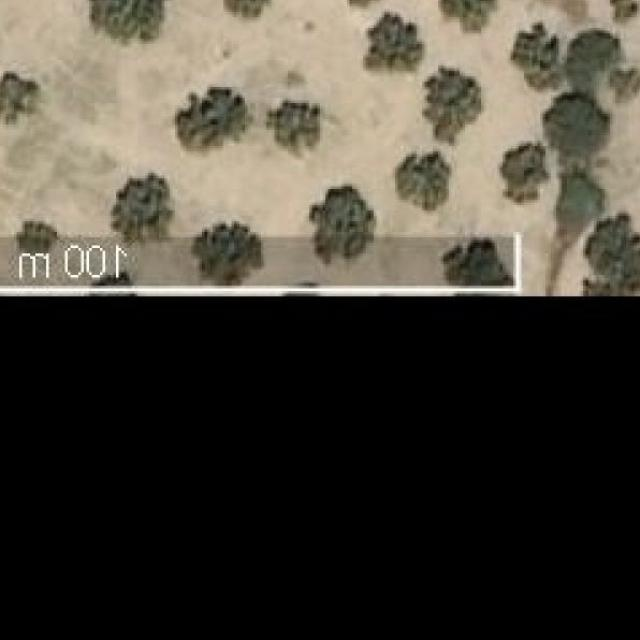Tree: (164, 87, 252, 160), (308, 187, 376, 267), (110, 173, 173, 248), (422, 69, 481, 147), (193, 221, 263, 286), (583, 216, 640, 294), (446, 232, 510, 296), (84, 0, 175, 44), (550, 92, 607, 157), (392, 152, 451, 210), (365, 12, 422, 71), (515, 28, 567, 92), (567, 28, 621, 87), (502, 141, 548, 203), (266, 95, 320, 146), (0, 71, 44, 124), (440, 0, 497, 33), (16, 216, 59, 256), (222, 0, 279, 17), (607, 0, 639, 26), (337, 0, 390, 6)
